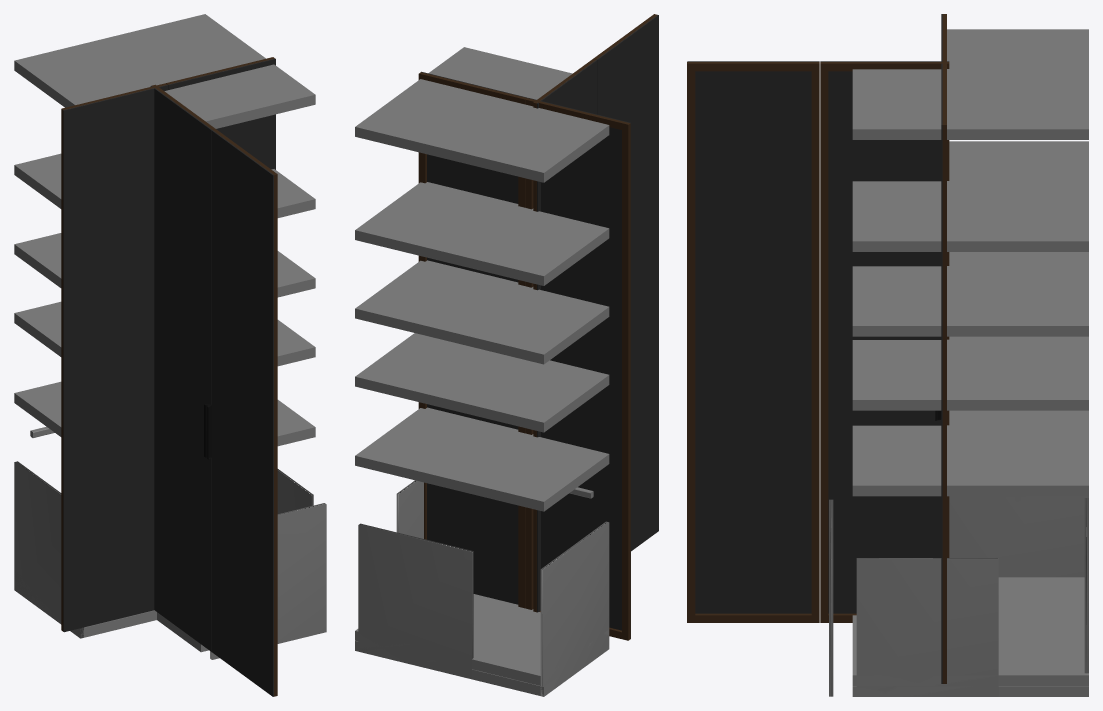
3 renders of one model, left to right at view 1: azimuth 30°, elevation 25°; view 2: azimuth 150°, elevation 25°; view 3: azimuth 270°, elevation 25°, orthographic. The views are drawn at different scales.
Parts seen in each view (by area): view 1: showroom_03; view 2: showroom_03; view 3: showroom_03.
Boxes of the visible parts, x1,y1,x2,y2 form: showroom_03: (14,14,326,696); showroom_03: (355,14,658,696); showroom_03: (687,14,1088,696).
Bounding box in the file's own units: 1.11 × 2.68 × 1.7.
